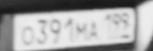license-plateSW: (13, 7, 136, 51)
